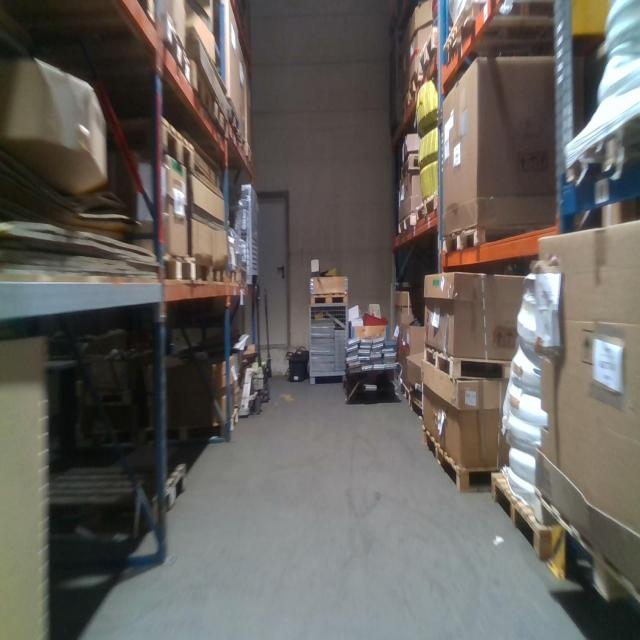pallet: (538, 486, 639, 622), (46, 458, 188, 524), (489, 468, 558, 568), (422, 428, 517, 491), (422, 339, 538, 387), (117, 114, 192, 170), (443, 6, 519, 55), (156, 1, 194, 88), (442, 229, 551, 256), (418, 22, 440, 88), (161, 253, 195, 292), (193, 53, 214, 116), (415, 188, 440, 228), (402, 69, 420, 112), (224, 99, 240, 142), (193, 260, 214, 291), (310, 290, 349, 306), (214, 94, 226, 143), (396, 212, 416, 239), (403, 154, 421, 179), (211, 264, 227, 291), (242, 133, 251, 159)
pallet_truck: (243, 278, 265, 412), (264, 281, 280, 388)
stillage: (307, 299, 351, 391)
